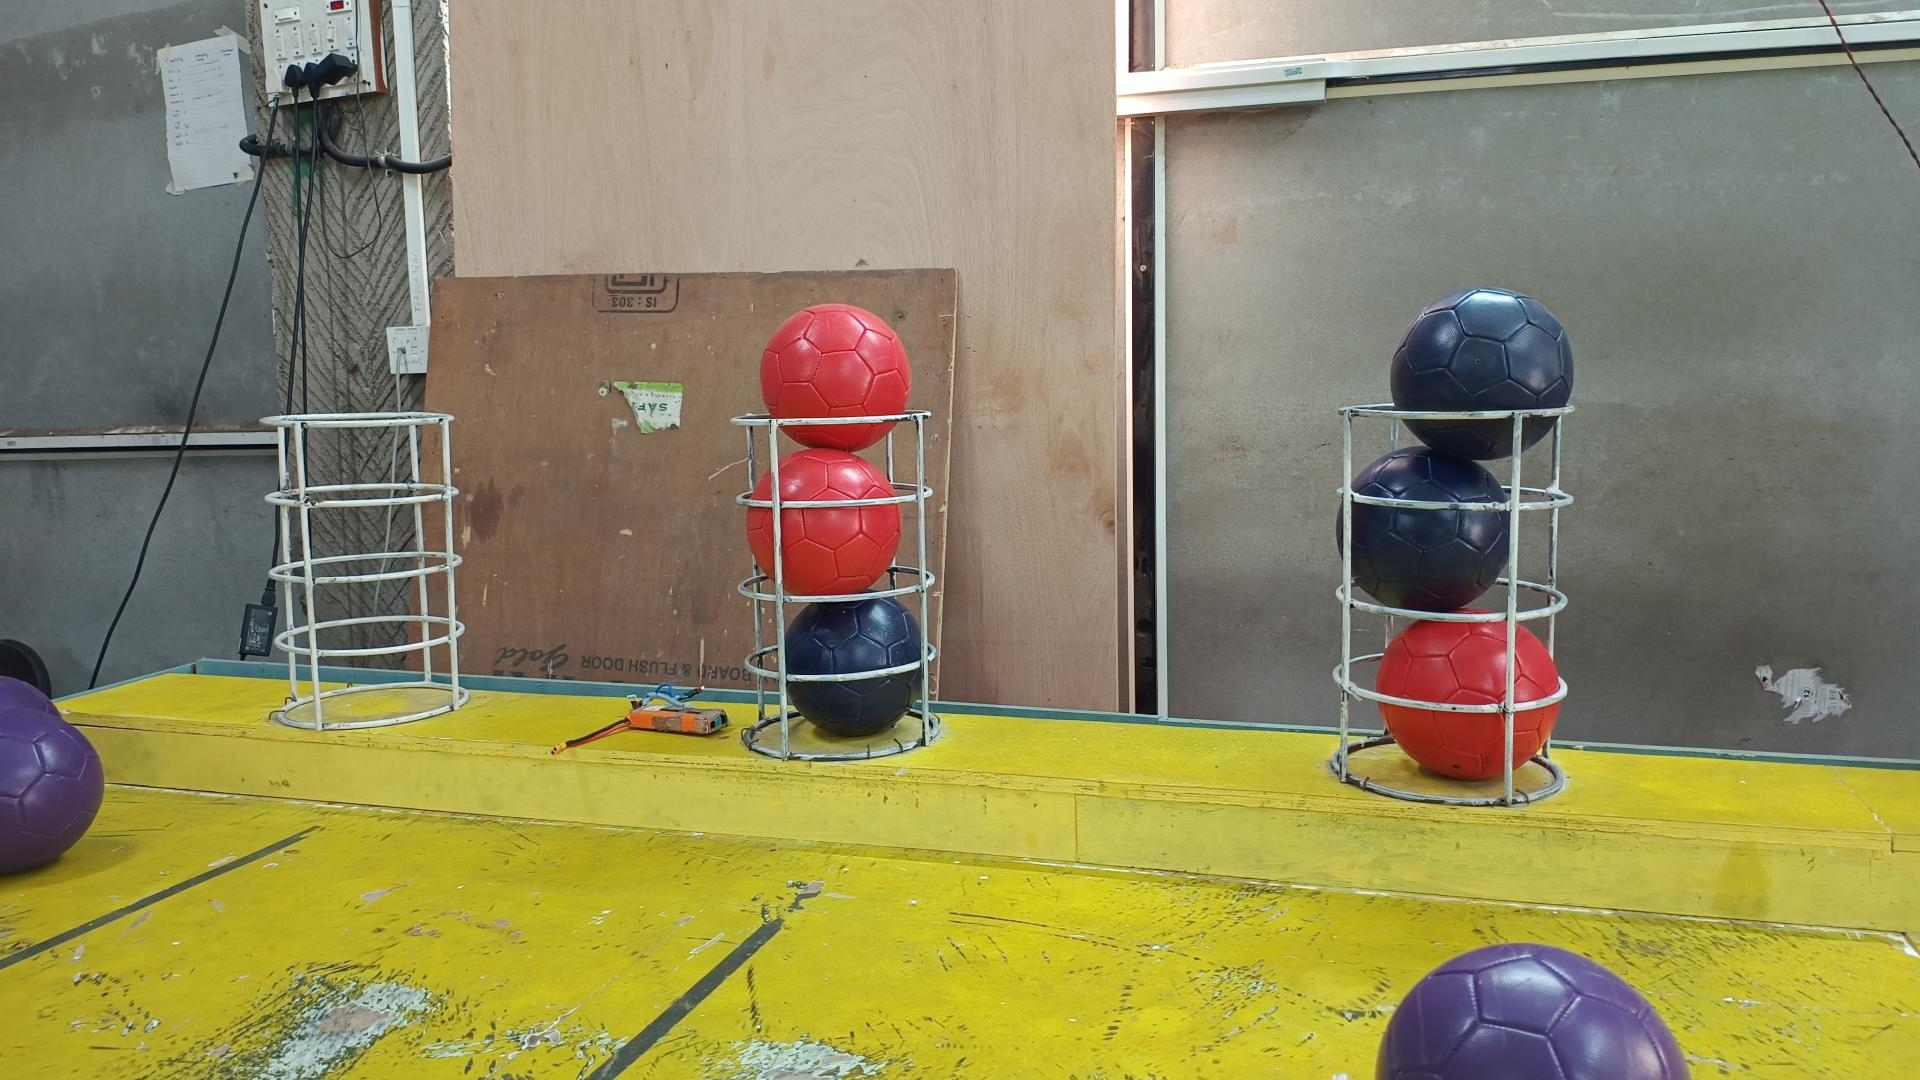dhoka: (1391, 289, 1575, 462), (1335, 446, 1511, 612), (783, 600, 923, 738)
laale: (1377, 618, 1560, 781), (746, 446, 903, 596), (761, 303, 911, 450)
